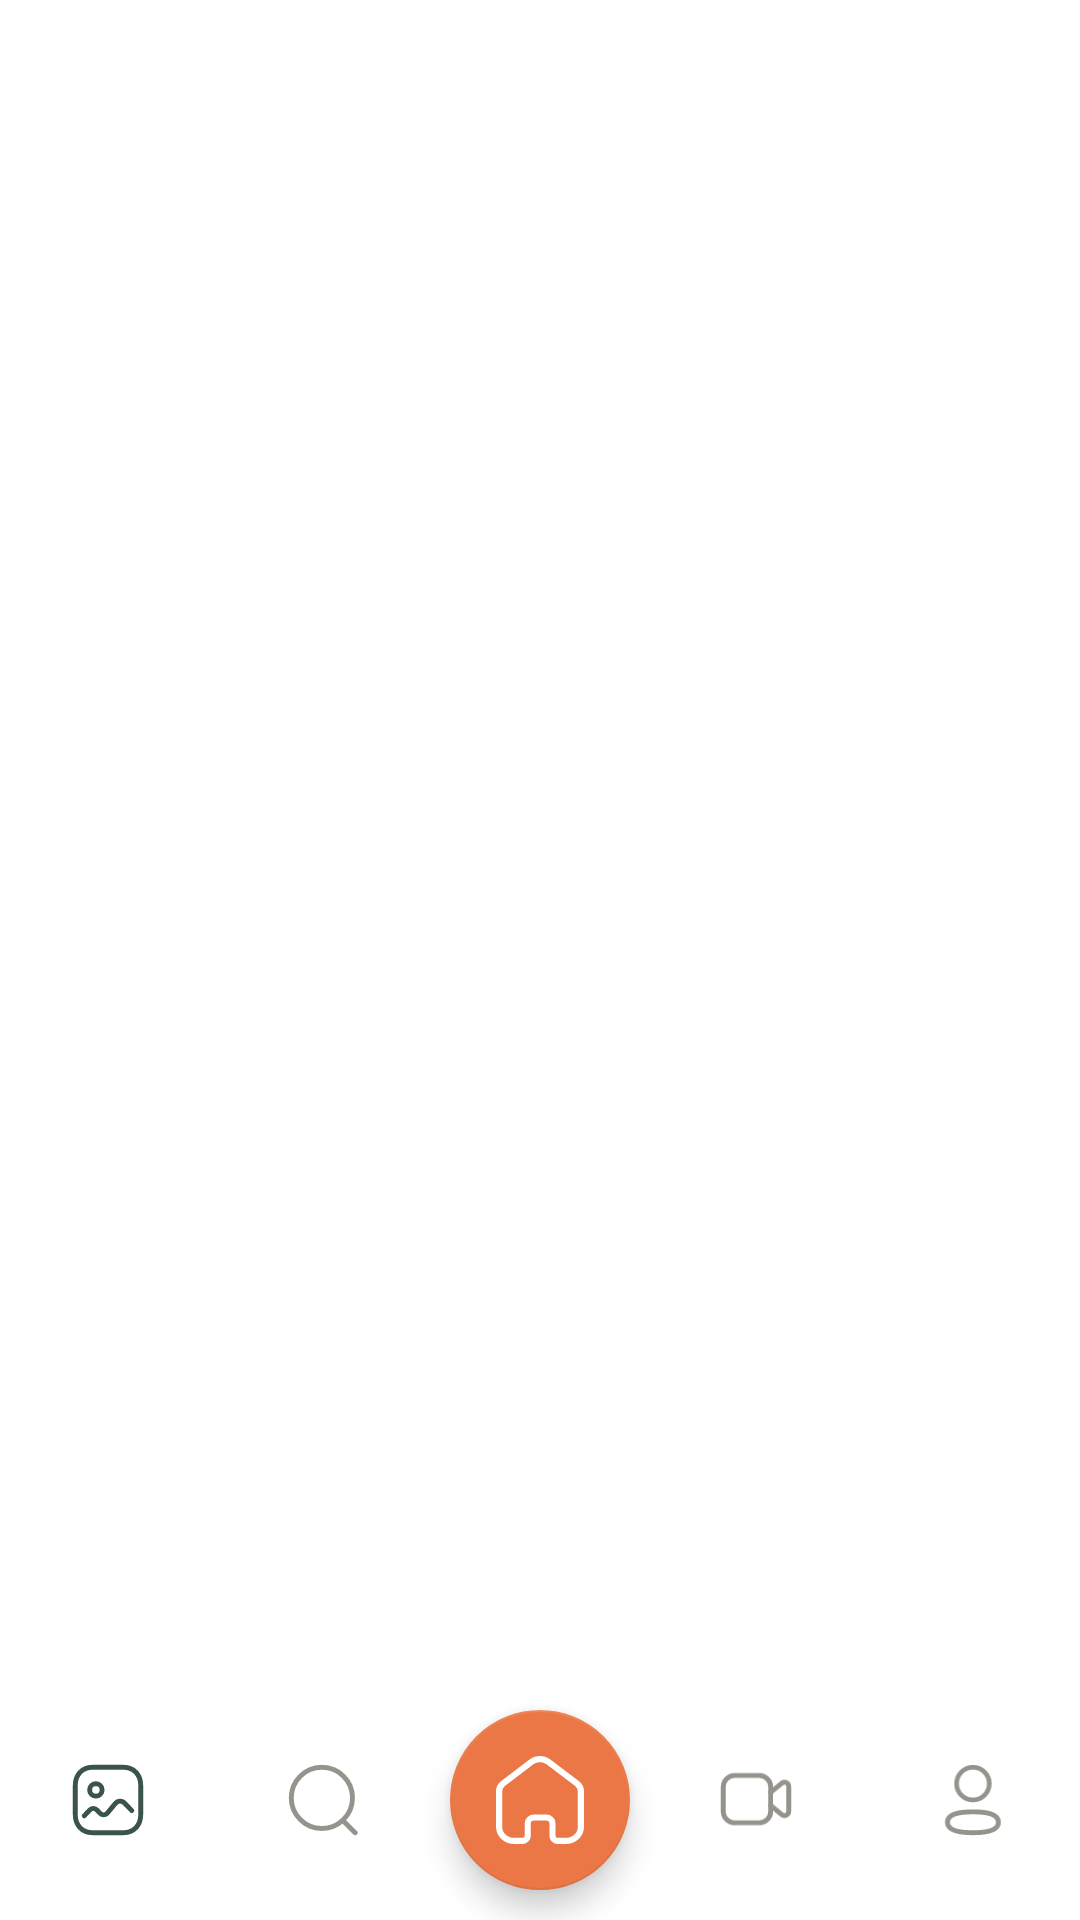

Screen size 1080px x 1920px. Icon name, then its box in pixels as {"x1": x1, "y1": y1, "x2": x2, "y2": y2}:
Home: {"x1": 450, "y1": 1710, "x2": 630, "y2": 1890}
